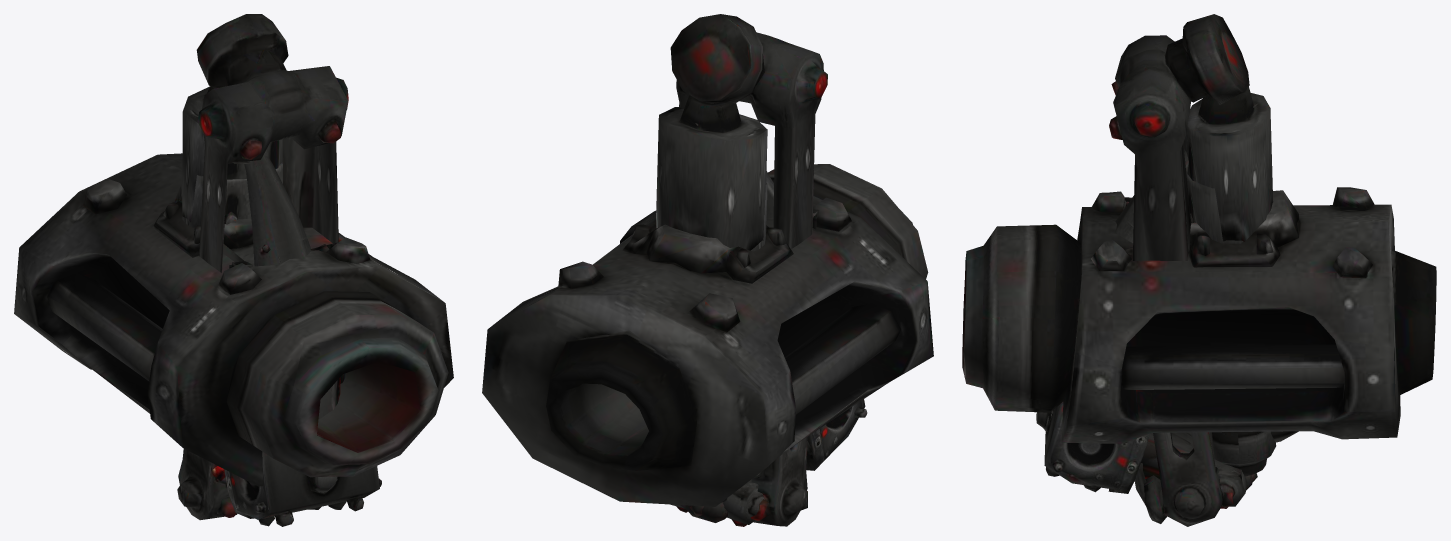
Rendered from spiderMech.glb.
The picture shows the model from 3 angles, left to right: view 1: azimuth 30°, elevation 25°; view 2: azimuth 150°, elevation 25°; view 3: azimuth 270°, elevation 25°; orthographic projection. The views are drawn at different scales.
Visible parts, largest first — view 1: 0.002, 4.001, 5.002, 3.002, 1.002; view 2: 0.002, 4.001, 3.002, 5.002; view 3: 0.002, 4.001, 3.002, 5.002, 1.002.
Boxes of the visible parts, x1,y1,x2,y2 form: 0.002: (14,153,453,486); 4.001: (177,14,348,520); 5.002: (210,155,381,526); 3.002: (182,86,282,224); 1.002: (182,162,282,227); 0.002: (482,164,933,506); 4.001: (670,14,827,526); 3.002: (656,95,767,250); 5.002: (671,123,867,526); 0.002: (962,187,1436,443); 4.001: (1109,14,1254,526); 3.002: (1184,87,1275,459); 5.002: (1036,103,1257,508); 1.002: (1186,174,1276,476).
Bounding box in the file's own units: 1.46 × 2.39 × 2.11.
1 material, 1 textured.
